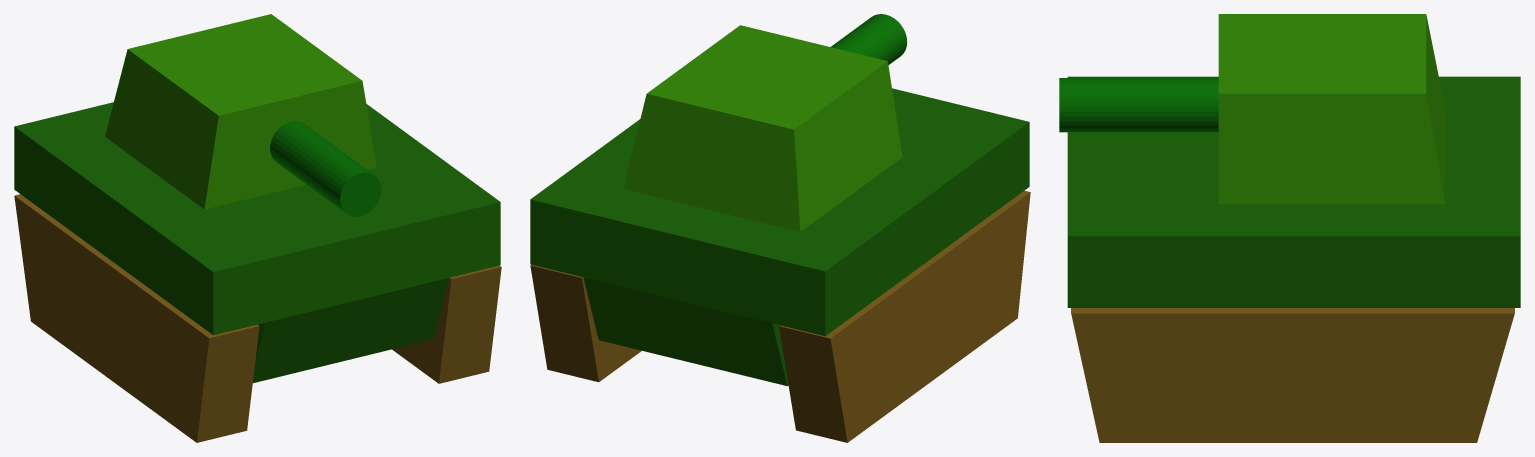
The model's file is tank.gltf.
3 renders of one model, left to right at view 1: azimuth 30°, elevation 25°; view 2: azimuth 150°, elevation 25°; view 3: azimuth 270°, elevation 25°, orthographic. The views are drawn at different scales.
Parts seen in each view (by area): view 1: TankBase, TankTracks, Turret, TurretGun; view 2: TankBase, Turret, TankTracks, TurretGun; view 3: TankBase, TankTracks, Turret, TurretGun.
Boxes of the visible parts, x1,y1,x2,y2 form: TankBase: [14, 102, 500, 383]; TankTracks: [14, 194, 501, 442]; Turret: [105, 14, 376, 209]; TurretGun: [270, 121, 381, 216]; TankBase: [530, 88, 1029, 386]; Turret: [623, 25, 902, 231]; TankTracks: [530, 190, 1030, 442]; TurretGun: [831, 14, 907, 64]; TankBase: [1067, 76, 1520, 307]; TankTracks: [1071, 308, 1514, 442]; Turret: [1218, 14, 1445, 204]; TurretGun: [1059, 78, 1218, 132].
Size of the model in its own units: 1.7 by 1.5 by 2.04.
